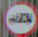Heavy Vehicles: (3, 2, 37, 34)
